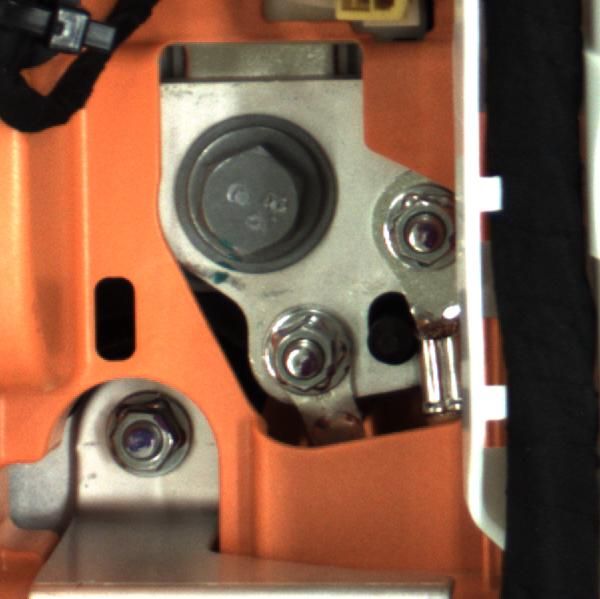nut_b: (172, 122, 317, 265)
screw_s: (97, 392, 198, 477), (264, 310, 348, 396), (383, 181, 452, 270)
